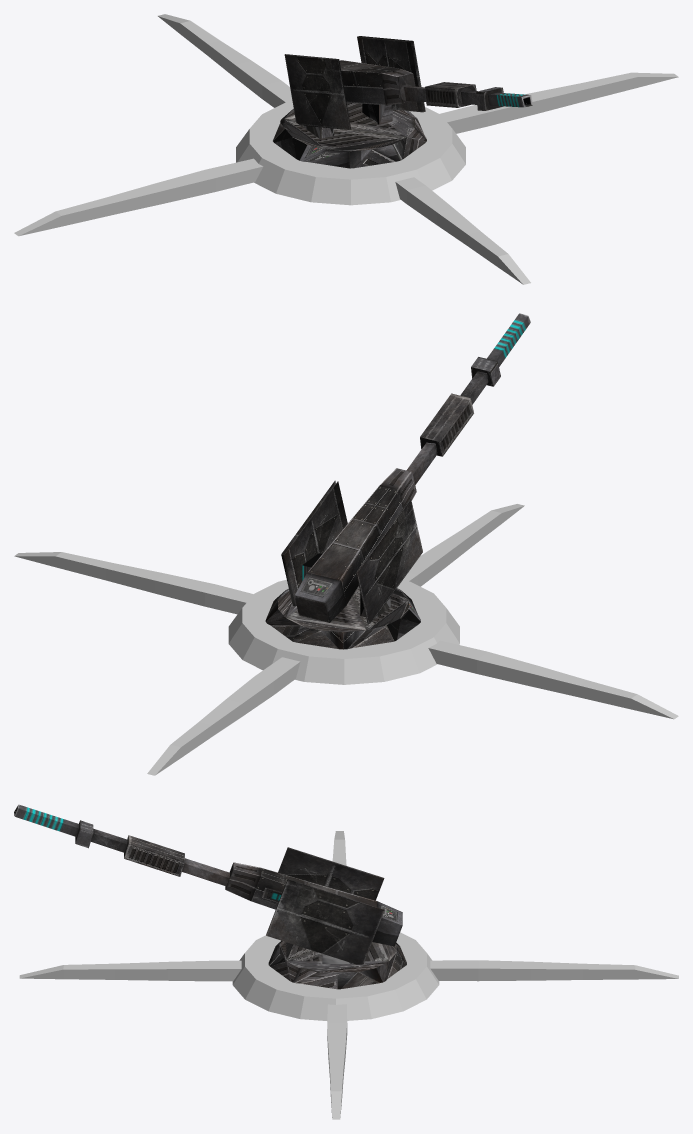
File: Artillery-lod2.dae
3 renders of one model, top to bottom at view 1: azimuth 30°, elevation 25°; view 2: azimuth 150°, elevation 25°; view 3: azimuth 270°, elevation 25°, orthographic. The views are drawn at different scales.
Visible parts, largest first — view 1: Mesh_Object_2, Mesh_Object, Mesh_Object_3; view 2: Mesh_Object_2, Mesh_Object, Mesh_Object_3; view 3: Mesh_Object_2, Mesh_Object, Mesh_Object_3.
Part boxes in pixels (x1=…): Mesh_Object_2: x1=14, y1=14, x2=678, y2=284; Mesh_Object: x1=284, y1=36, x2=532, y2=129; Mesh_Object_3: x1=273, y1=102, x2=426, y2=168; Mesh_Object_2: x1=14, y1=504, x2=678, y2=775; Mesh_Object: x1=281, y1=313, x2=530, y2=624; Mesh_Object_3: x1=265, y1=553, x2=420, y2=649; Mesh_Object_2: x1=19, y1=831, x2=678, y2=1119; Mesh_Object: x1=14, y1=804, x2=402, y2=964; Mesh_Object_3: x1=268, y1=940, x2=406, y2=989.
Size of the model in its own units: 7.05 by 1.94 by 6.87.
